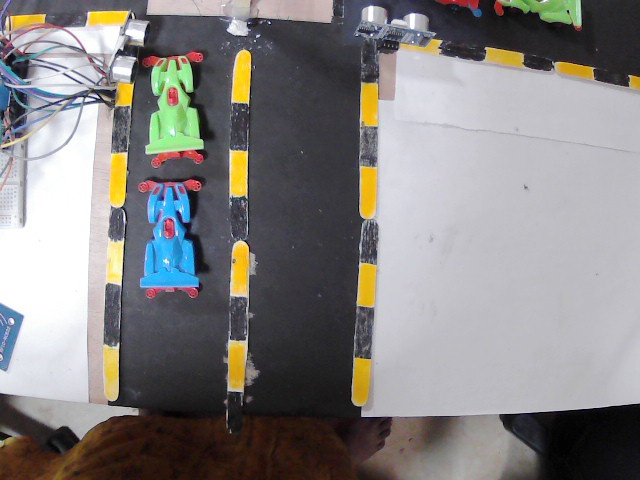black_strip: (101, 286, 122, 341), (227, 299, 249, 340), (228, 199, 250, 239), (46, 8, 86, 30), (233, 103, 250, 154), (113, 106, 131, 153), (358, 126, 378, 168), (440, 40, 485, 57), (224, 391, 244, 429), (359, 220, 376, 262), (357, 306, 372, 351), (362, 47, 379, 83), (593, 68, 627, 83), (109, 207, 123, 240), (524, 55, 559, 68)
car: (142, 48, 209, 166), (137, 179, 203, 298), (487, 0, 585, 30), (432, 0, 485, 16)
mixed_lane: (346, 34, 381, 406), (406, 40, 637, 88), (101, 86, 135, 401), (224, 48, 251, 435), (0, 8, 133, 33)
uno_breadboard: (0, 41, 36, 254), (353, 5, 437, 49), (103, 11, 151, 84), (0, 302, 25, 394)
yellow_strip: (227, 340, 247, 389), (230, 242, 247, 296), (103, 345, 120, 399), (108, 155, 127, 203), (359, 82, 379, 125), (354, 355, 371, 405), (4, 12, 44, 33), (229, 153, 248, 195), (86, 10, 129, 28), (235, 53, 250, 102), (359, 169, 374, 216), (106, 242, 123, 283), (359, 264, 375, 305), (553, 63, 591, 79), (487, 51, 522, 64), (115, 86, 134, 105), (411, 41, 440, 51), (630, 76, 638, 86)
